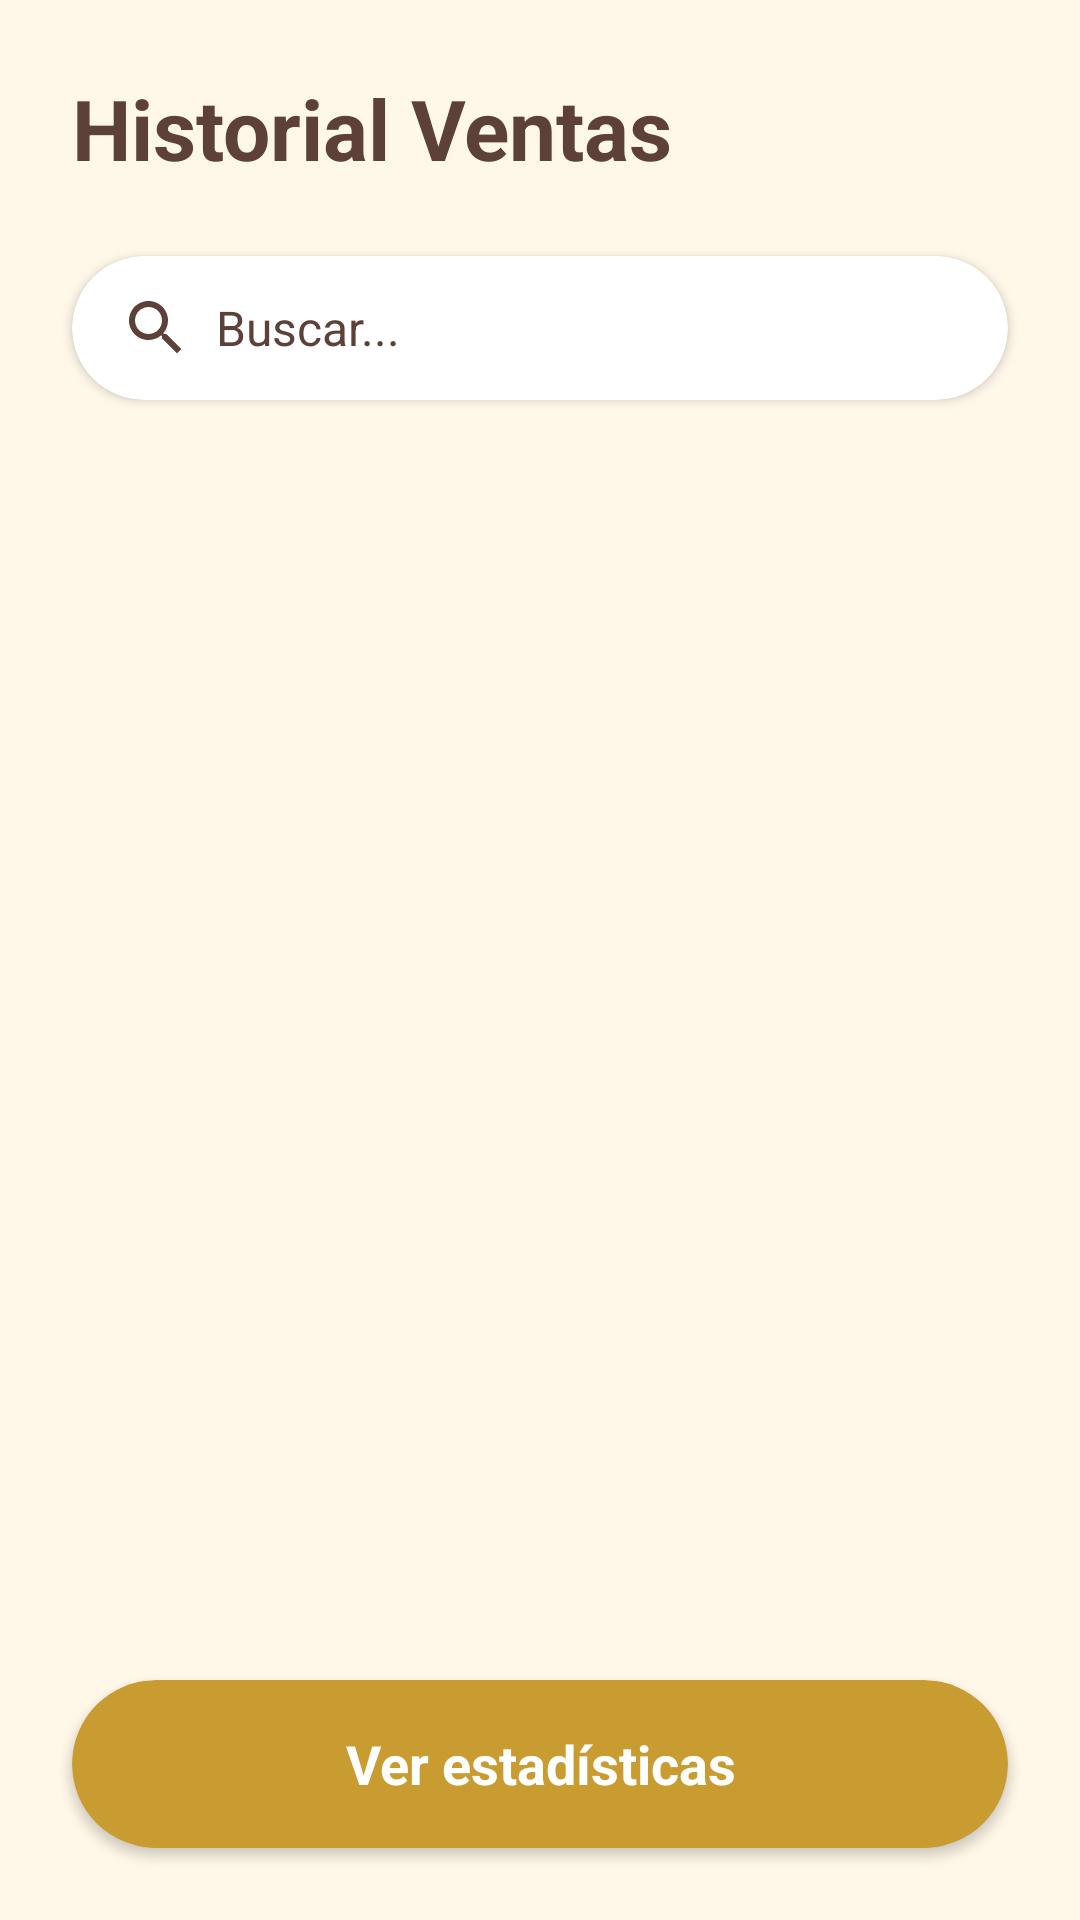

Named icons in this screenshot (1080 × 1920) and their centers, (x=x, y=y):
search: (x=155, y=327)
